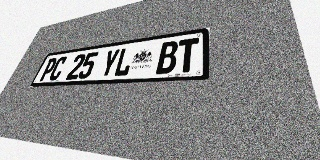2: (66, 53, 87, 80)
5: (77, 52, 99, 79)
B: (156, 40, 179, 74)
C: (47, 56, 68, 81)
L: (113, 46, 135, 77)
P: (38, 57, 59, 81)
T: (176, 37, 199, 73)
Y: (98, 48, 121, 78)
